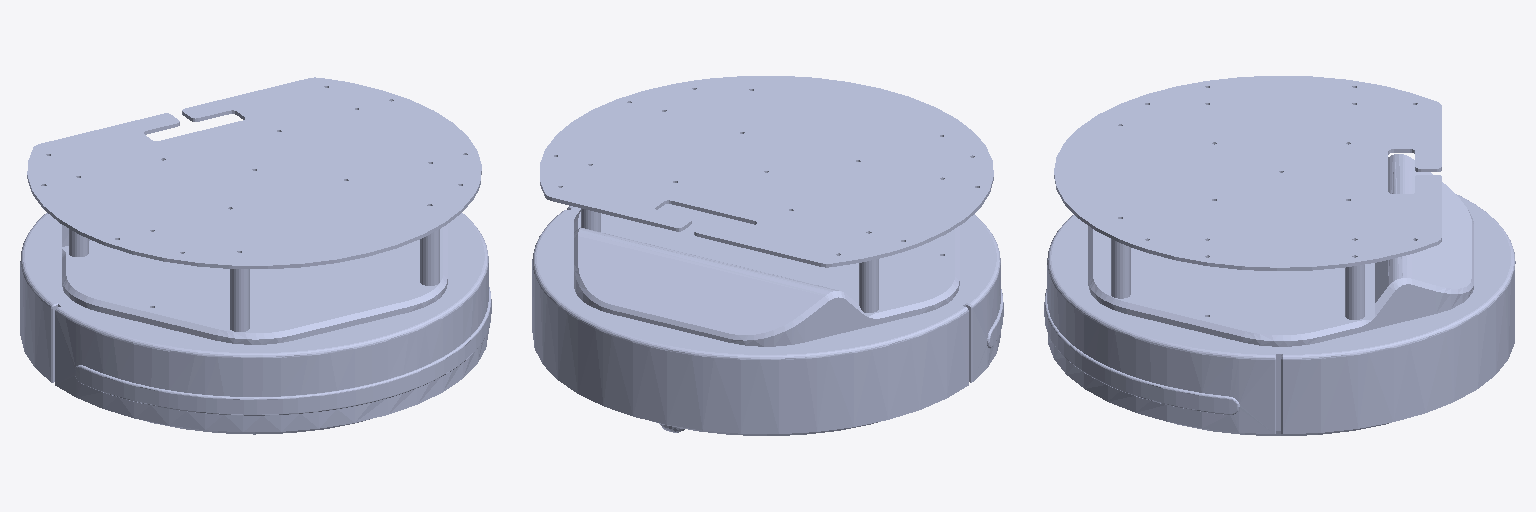
URDF robot description (turtle_boeing2):
<?xml version="1.0" encoding="utf-8"?>
<!-- This URDF was automatically created by SolidWorks to URDF Exporter! Originally created by Stephen Brawner (brawner@gmail.com) 
     Commit Version: 1.6.0-1-g15f4949  Build Version: 1.6.7594.29634
     For more information, please see http://wiki.ros.org/sw_urdf_exporter -->
<robot
  name="turtle_boeing2">
  <link
    name="base_link">
    <inertial>
      <origin
        xyz="-7.7303E-05 0.060061 -0.0035354"
        rpy="0 0 0" />
      <mass
        value="8.1771" />
      <inertia
        ixx="0.064736"
        ixy="1.4434E-06"
        ixz="-6.2432E-08"
        iyy="0.11644"
        iyz="0.0011844"
        izz="0.06108" />
    </inertial>
    <visual>
      <origin
        xyz="0 0 0"
        rpy="0 0 0" />
      <geometry>
        <mesh
          filename="package://turtle_boeing2/meshes/base_link.STL" />
      </geometry>
      <material
        name="">
        <color
          rgba="0.79216 0.81961 0.93333 1" />
      </material>
    </visual>
    <collision>
      <origin
        xyz="0 0 0"
        rpy="0 0 0" />
      <geometry>
        <mesh
          filename="package://turtle_boeing2/meshes/base_link.STL" />
      </geometry>
    </collision>
  </link>
  <link
    name="lidar_Link">
    <inertial>
      <origin
        xyz="-1.4938E-05 0.0099985 -0.00056545"
        rpy="0 0 0" />
      <mass
        value="0.16538" />
      <inertia
        ixx="7.519E-05"
        ixy="2.886E-08"
        ixz="4.8472E-08"
        iyy="0.00010995"
        iyz="2.1848E-06"
        izz="7.8865E-05" />
    </inertial>
    <visual>
      <origin
        xyz="0 0 0"
        rpy="0 0 0" />
      <geometry>
        <mesh
          filename="package://turtle_boeing2/meshes/lidar_Link.STL" />
      </geometry>
      <material
        name="">
        <color
          rgba="0.75294 0.75294 0.75294 0.4" />
      </material>
    </visual>
    <collision>
      <origin
        xyz="0 0 0"
        rpy="0 0 0" />
      <geometry>
        <mesh
          filename="package://turtle_boeing2/meshes/lidar_Link.STL" />
      </geometry>
    </collision>
  </link>
  <joint
    name="lidar_joint"
    type="fixed">
    <origin
      xyz="-8.2165E-05 0.0015017 0.17885"
      rpy="1.5708 0 -3.1416" />
    <parent
      link="base_link" />
    <child
      link="lidar_Link" />
    <axis
      xyz="0 0 0" />
  </joint>
</robot>

--- Render facts (derived) ---
3 views of the same robot in one strip: view 1: azimuth 30°, elevation 25°; view 2: azimuth 150°, elevation 25°; view 3: azimuth 270°, elevation 25° (orthographic).
Robot: turtle_boeing2 — 2 links, 1 joints (1 fixed); root link base_link; default pose: all joints at 0.
Links seen in each view (by area): view 1: base_link; view 2: base_link; view 3: base_link.
Boxes of the visible links, x1,y1,x2,y2 form: base_link: [20, 77, 491, 434]; base_link: [532, 76, 1003, 435]; base_link: [1044, 76, 1515, 435].
Bounding box of the posed robot: 0.35 × 0.352 × 0.161 m (x, y, z).
Meshes: 2 distinct files referenced, 1 mesh visuals loaded (1 binary STL); not drawn: 1 (reference not matched to a file when rendering).
